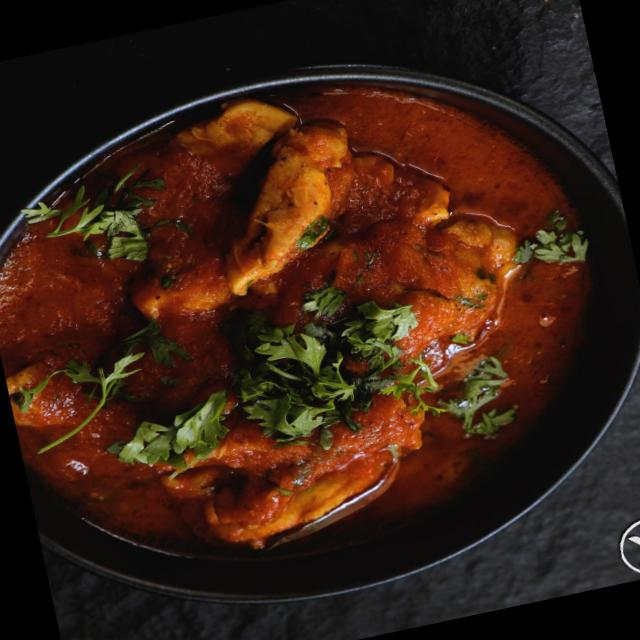chicken: (0, 54, 614, 575)
